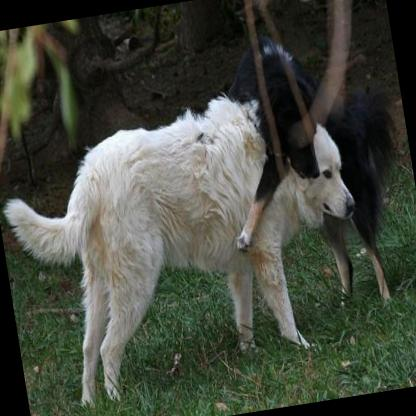Great_Pyrenees: (0, 71, 379, 416)
